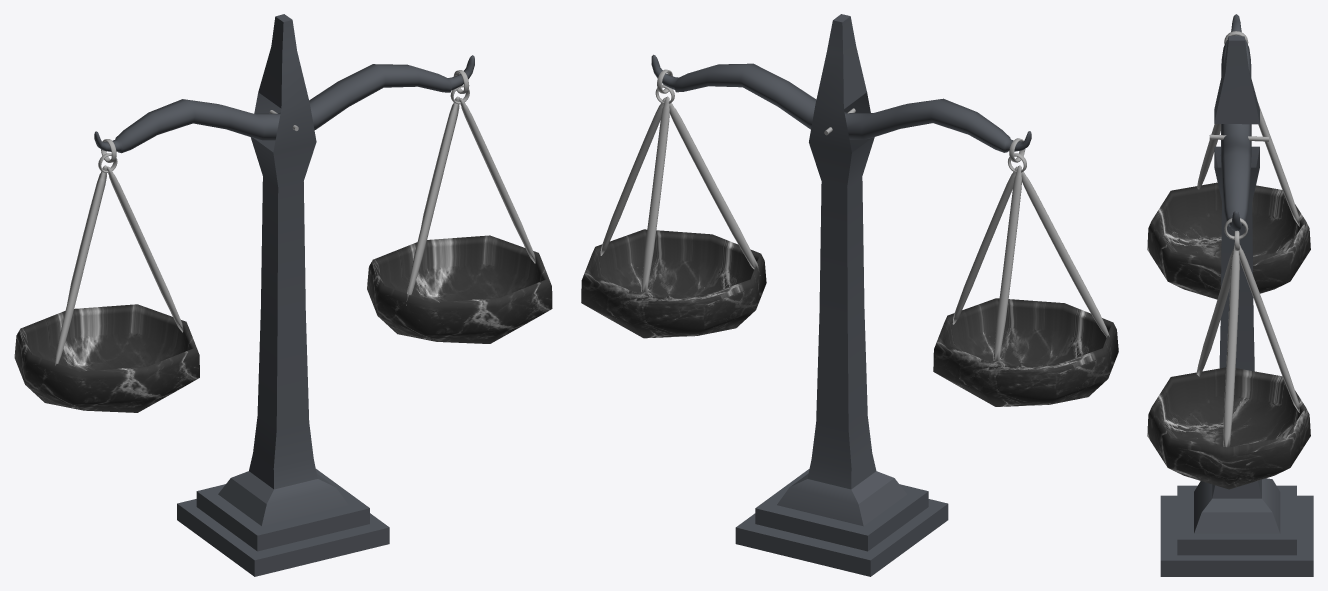
The model's file is scale_3.5.fbx.
3 renders of one model, left to right at view 1: azimuth 30°, elevation 25°; view 2: azimuth 150°, elevation 25°; view 3: azimuth 270°, elevation 25°, orthographic.
Parts seen in each view (by area): view 1: pCube1, pCylinder3, pCylinder4, pCube2; view 2: pCube1, pCylinder3, pCylinder4, pCube2; view 3: pCube1, pCylinder3, pCylinder4, pCube2.
Boxes of the visible parts, left/top/right/bottom form: pCube1: left=177, top=14, right=389, bottom=576; pCylinder3: left=367, top=70, right=552, bottom=343; pCylinder4: left=14, top=139, right=199, bottom=412; pCube2: left=94, top=55, right=474, bottom=153; pCube1: left=735, top=14, right=948, bottom=576; pCylinder3: left=581, top=69, right=766, bottom=338; pCylinder4: left=933, top=138, right=1118, bottom=406; pCube2: left=651, top=54, right=1031, bottom=152; pCube1: left=1160, top=36, right=1313, bottom=576; pCylinder3: left=1147, top=218, right=1310, bottom=489; pCylinder4: left=1147, top=31, right=1310, bottom=299; pCube2: left=1220, top=14, right=1251, bottom=230.
Size of the model in its own units: 12.35 by 11.74 by 3.49.
